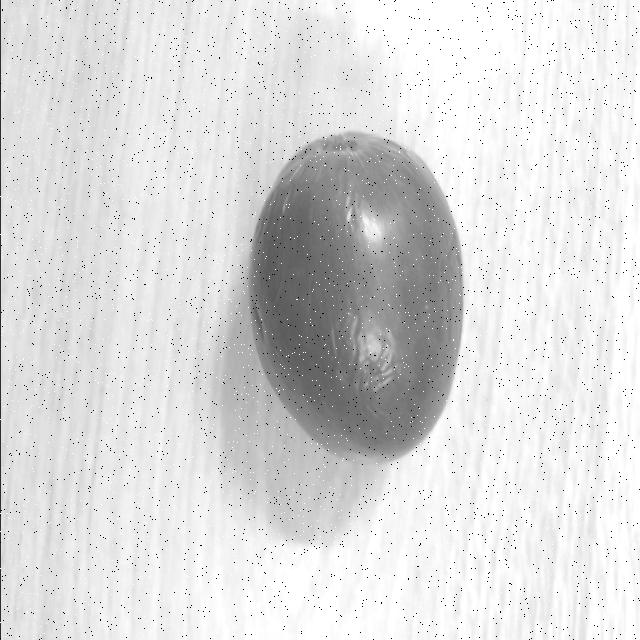Tomato: (244, 125, 471, 478)
